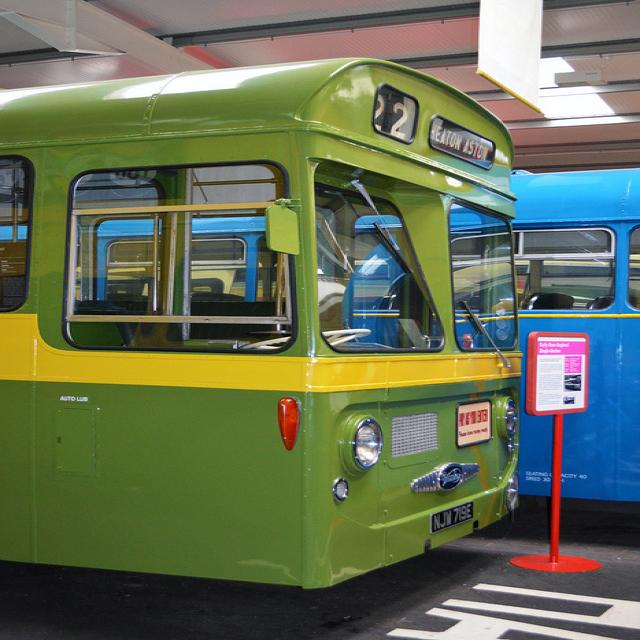Vehicle: (0, 59, 528, 590), (513, 172, 640, 509)
